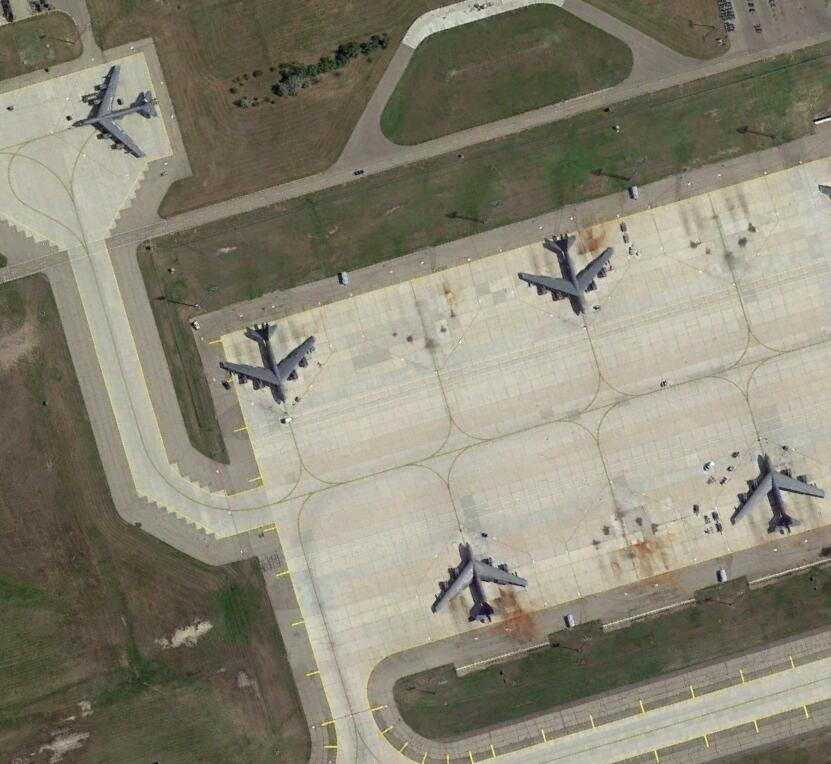A8: (513, 231, 616, 318), (70, 63, 160, 161), (216, 320, 316, 406), (727, 452, 826, 538), (430, 540, 529, 625)
